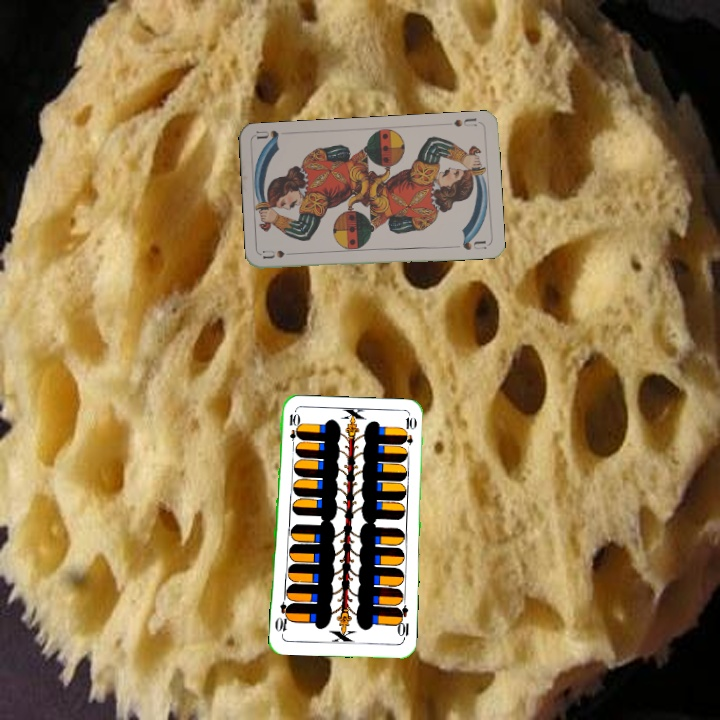E10: (393, 602, 411, 643), (285, 410, 299, 450)
SU: (260, 246, 300, 261), (450, 114, 479, 129)
